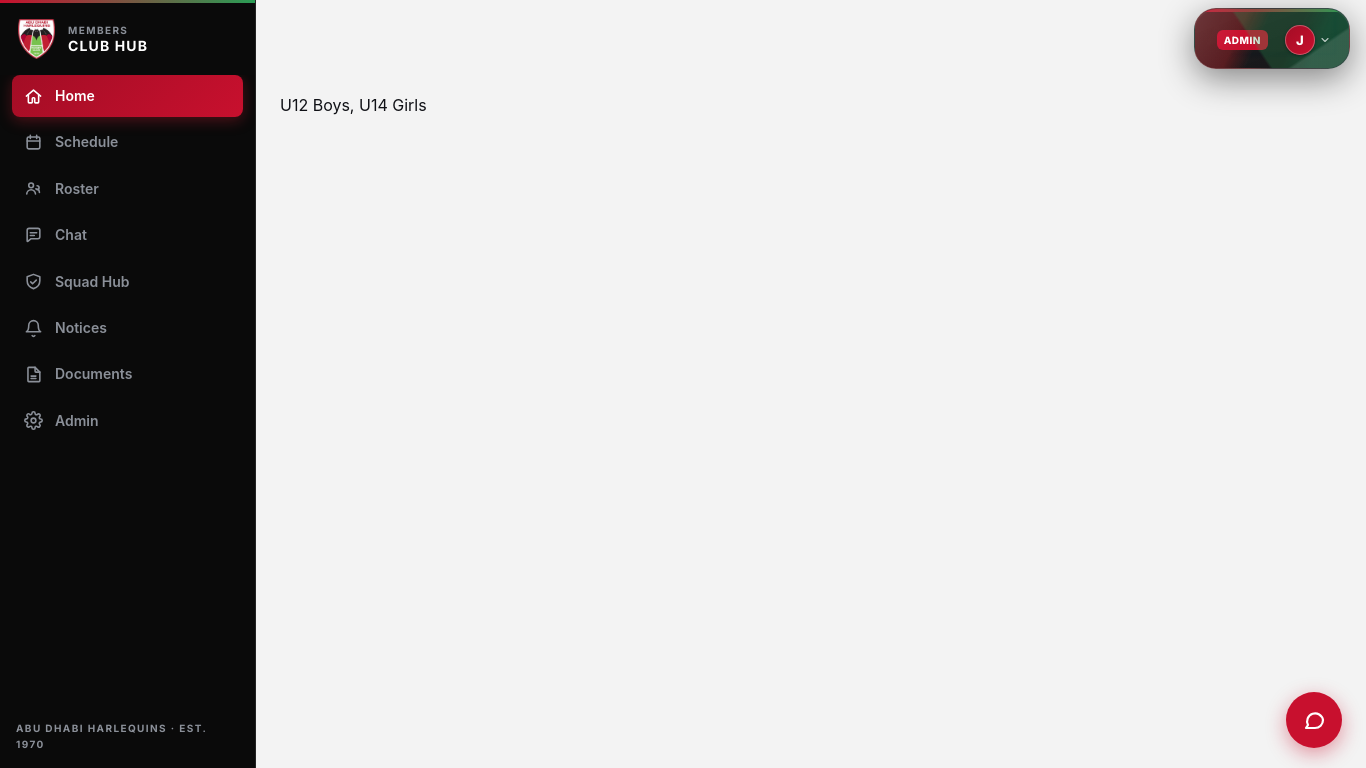
View as, reached through the account menu › is offered to a real admin
Click the button with test id "account-button" at (1310, 40), box [1282,22,1337,58]
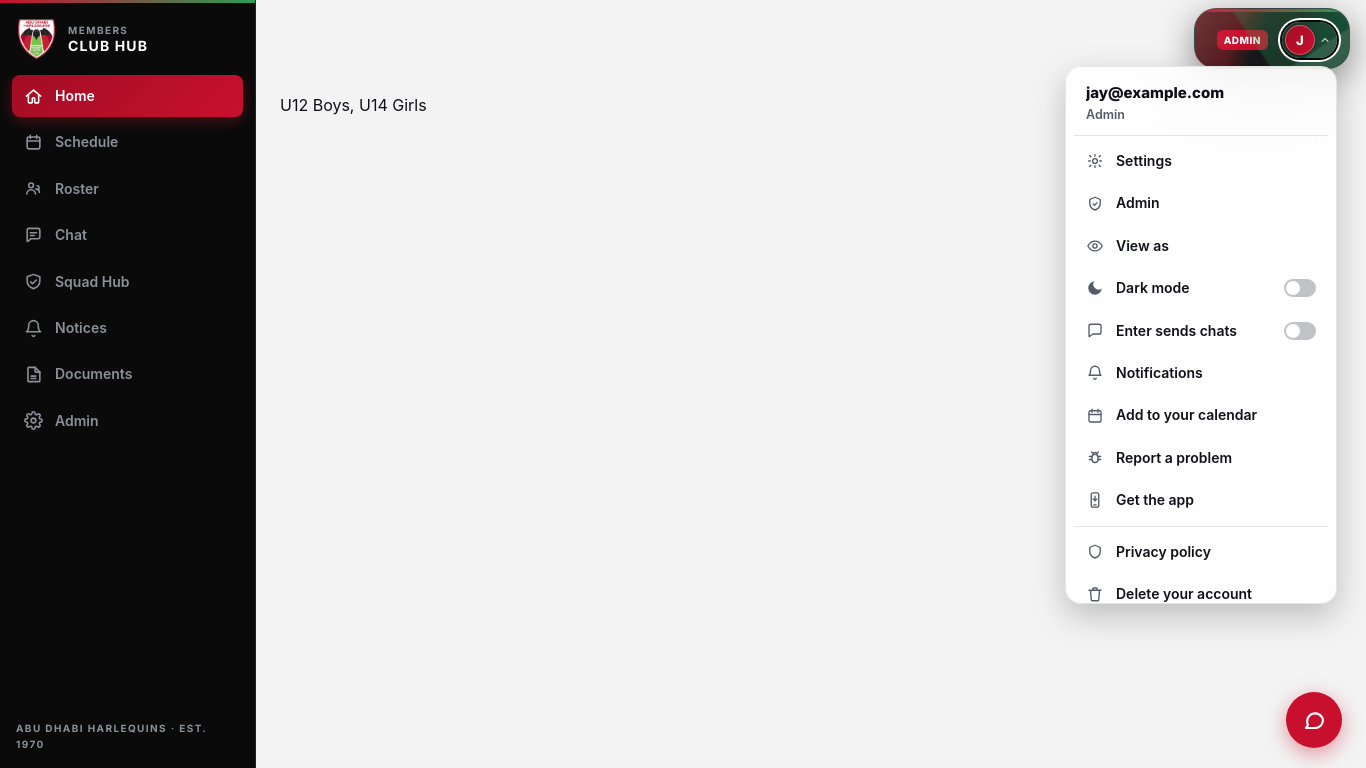
Check: the menu item with test id "view-as-trigger" is shown, box [1074,225,1328,267]
